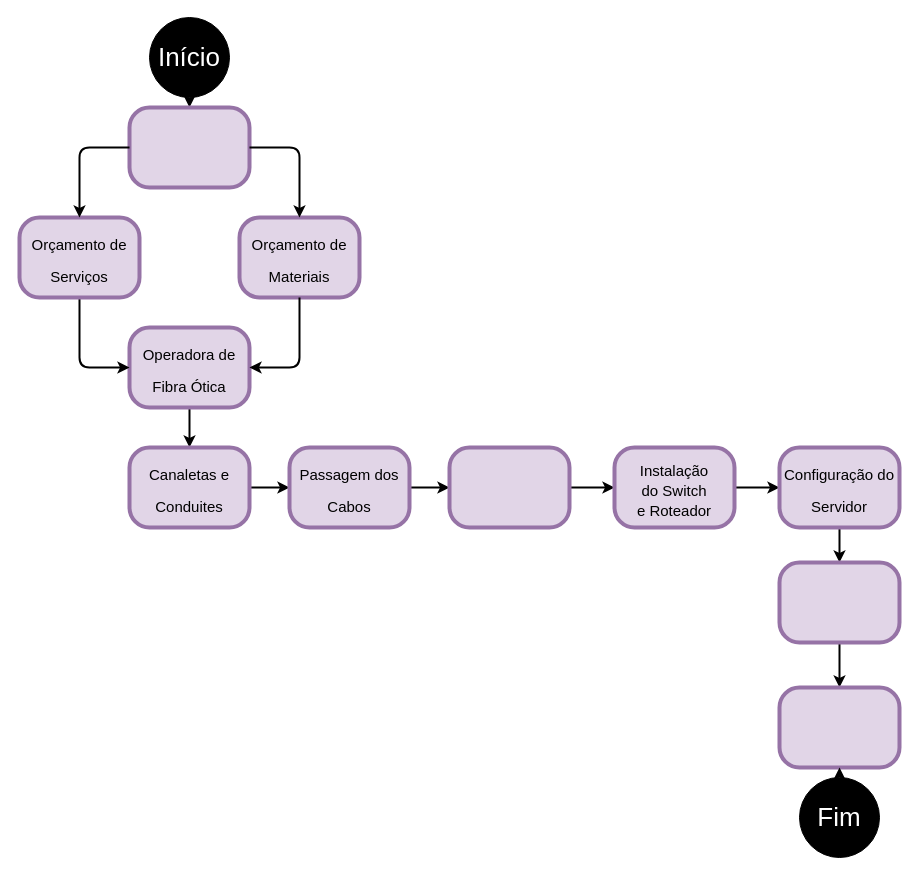
Image size: 918x875. Some labels were removed from this diagram. Each missing label, with the box of its shape:
Configuração de Perifericos: (777, 560, 901, 644)
Crimpagem dos Conectores: (447, 445, 571, 529)
Medições diversas: (127, 105, 251, 189)
Teste e Conclusão: (777, 685, 901, 769)
